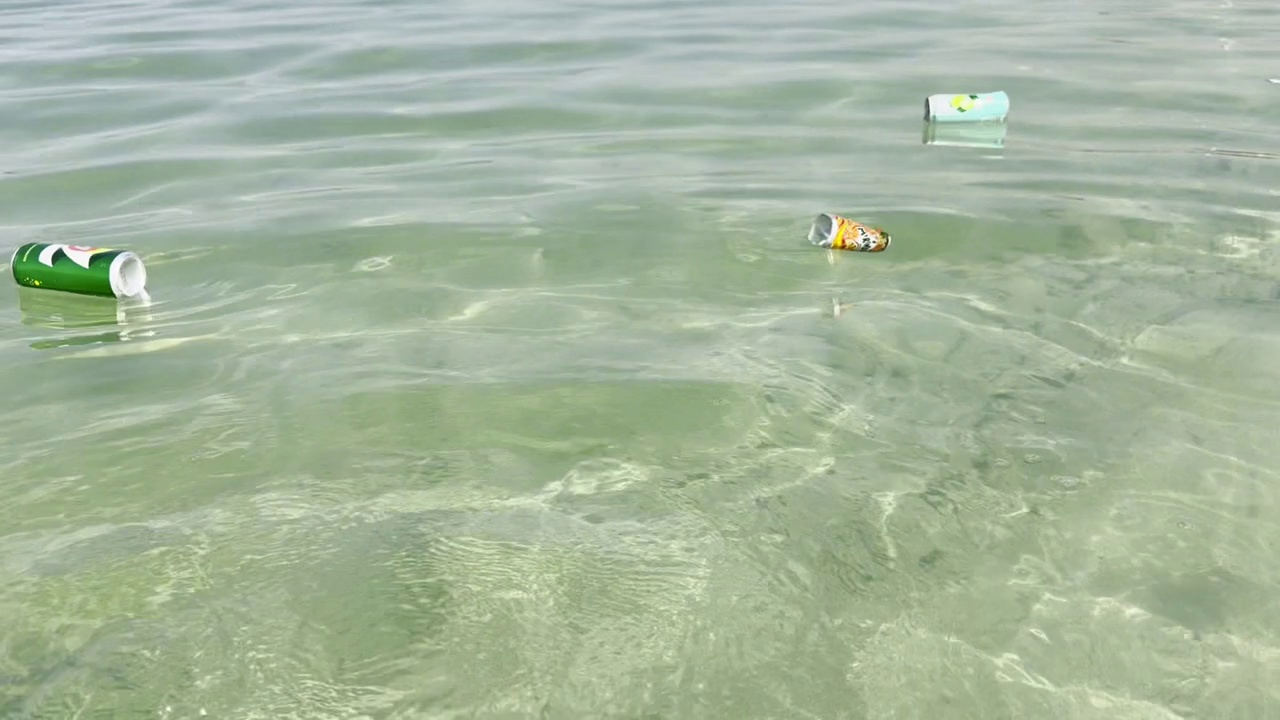debris: (6, 235, 157, 300), (804, 205, 895, 261), (920, 88, 1016, 126)
